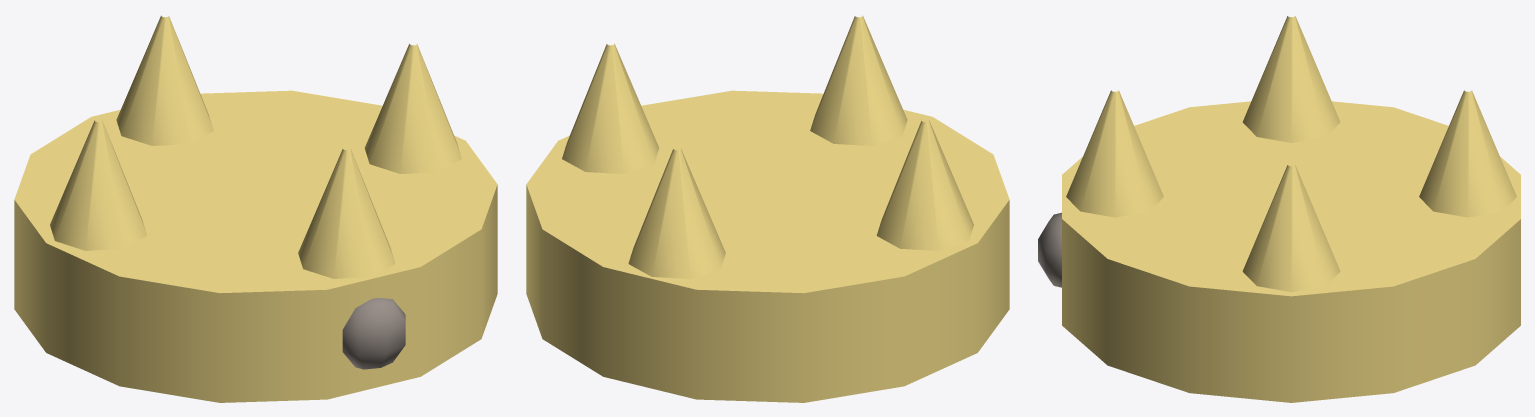
The model's file is hat_crown.glb.
3 views of the same model, side by side, from view 1: azimuth 30°, elevation 25°; view 2: azimuth 150°, elevation 25°; view 3: azimuth 270°, elevation 25° (orthographic). The views are drawn at different scales.
Visible parts, largest first — view 1: hat_crown; view 2: hat_crown; view 3: hat_crown.
Boxes of the visible parts, x1=… form: hat_crown: x1=14, y1=15, x2=497, y2=402; hat_crown: x1=526, y1=15, x2=1009, y2=402; hat_crown: x1=1038, y1=16, x2=1520, y2=402.
Size of the model in its own units: 24 by 12 by 24.63.
